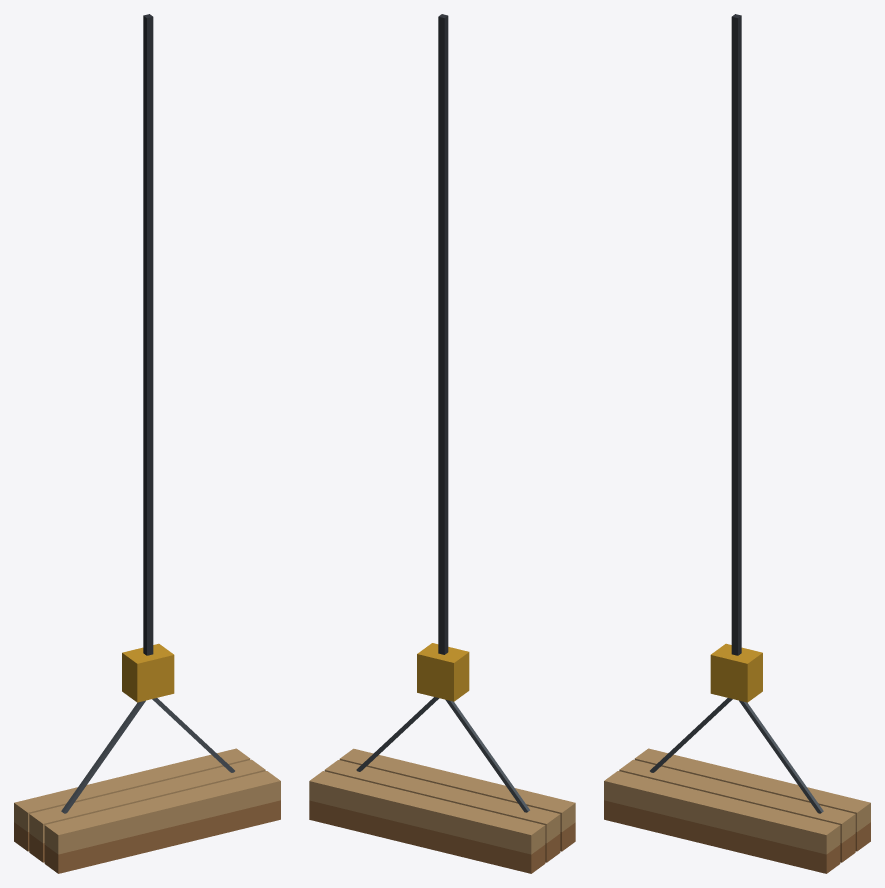
The model's file is v2-crane-load.glb.
The picture shows the model from 3 angles, left to right: view 1: azimuth 30°, elevation 25°; view 2: azimuth 150°, elevation 25°; view 3: azimuth 330°, elevation 25°; orthographic projection.
Visible parts, largest first — view 1: v2-crane-load; view 2: v2-crane-load; view 3: v2-crane-load.
Part boxes in pixels (x1,y1,x2,y2): v2-crane-load: (14, 14, 280, 873); v2-crane-load: (309, 14, 575, 873); v2-crane-load: (604, 14, 870, 873).
Size of the model in its own units: 0.8399 by 2.94 by 0.29.
